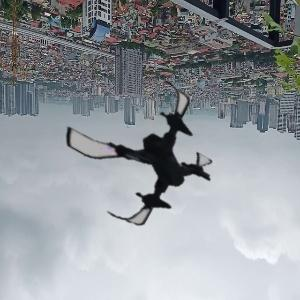drone: (65, 74, 221, 230)
